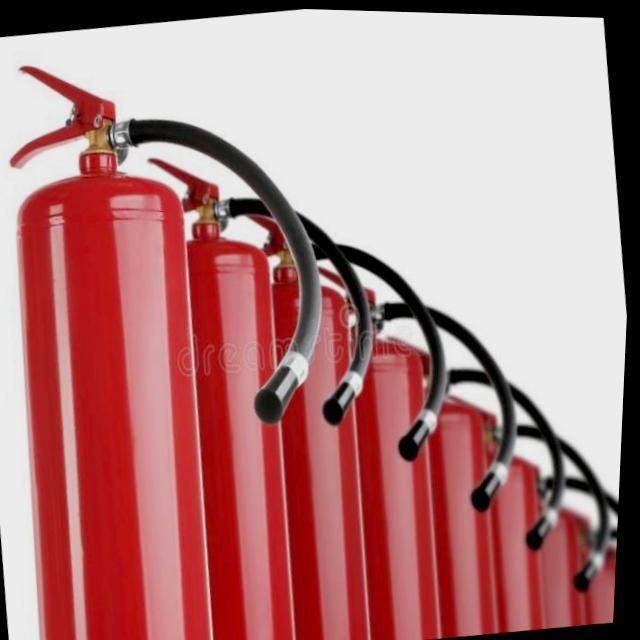FireExtinguisher: (0, 25, 376, 640), (105, 125, 421, 640), (204, 167, 493, 640), (279, 224, 557, 640)
